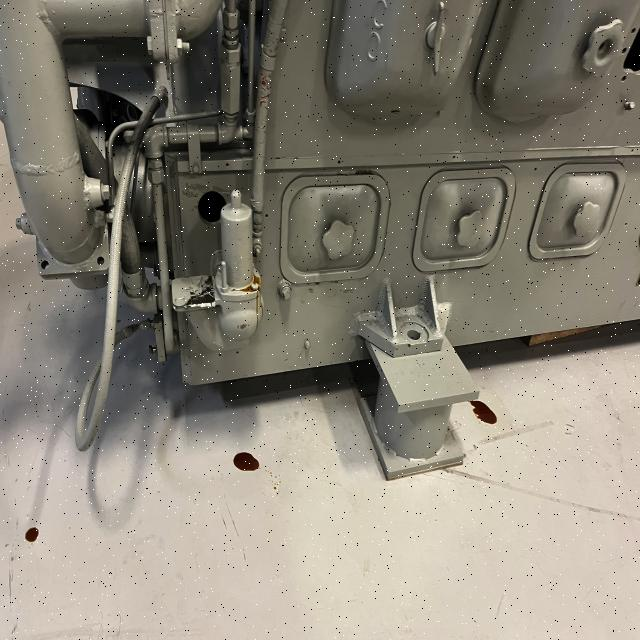Oil Leak: (229, 269, 263, 318), (470, 400, 497, 424), (233, 452, 259, 471), (25, 527, 39, 542)
